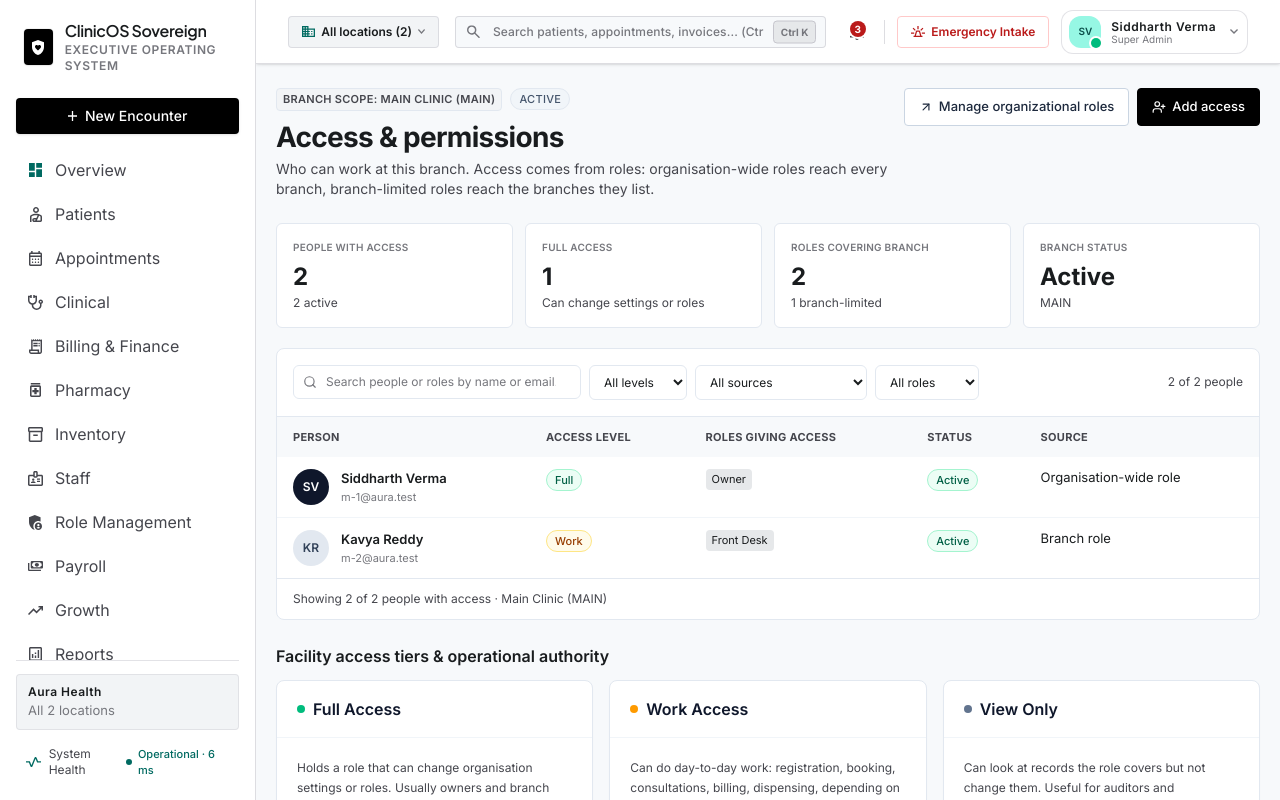
it: branch access page › lists the people whose roles reach the branch, with their level
Expected: the text "Siddharth Verma" below "Person" is shown, [341,470,447,486]
Expected: the text "Kavya Reddy" is shown, [341,530,423,550]
Step 1. Select "Full" in the dropdown named "Access level" → (638, 382), box [589,364,687,400]
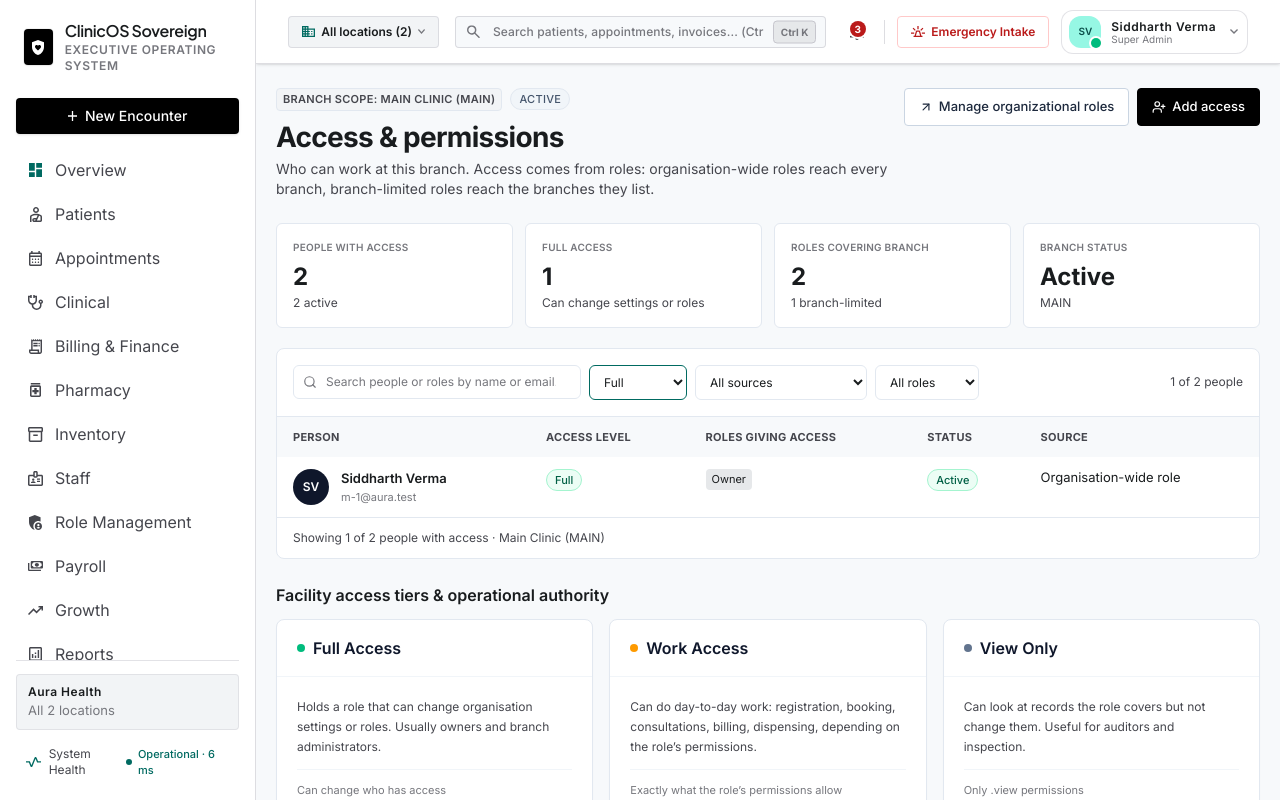
Expected: the text "Kavya Reddy" is gone
